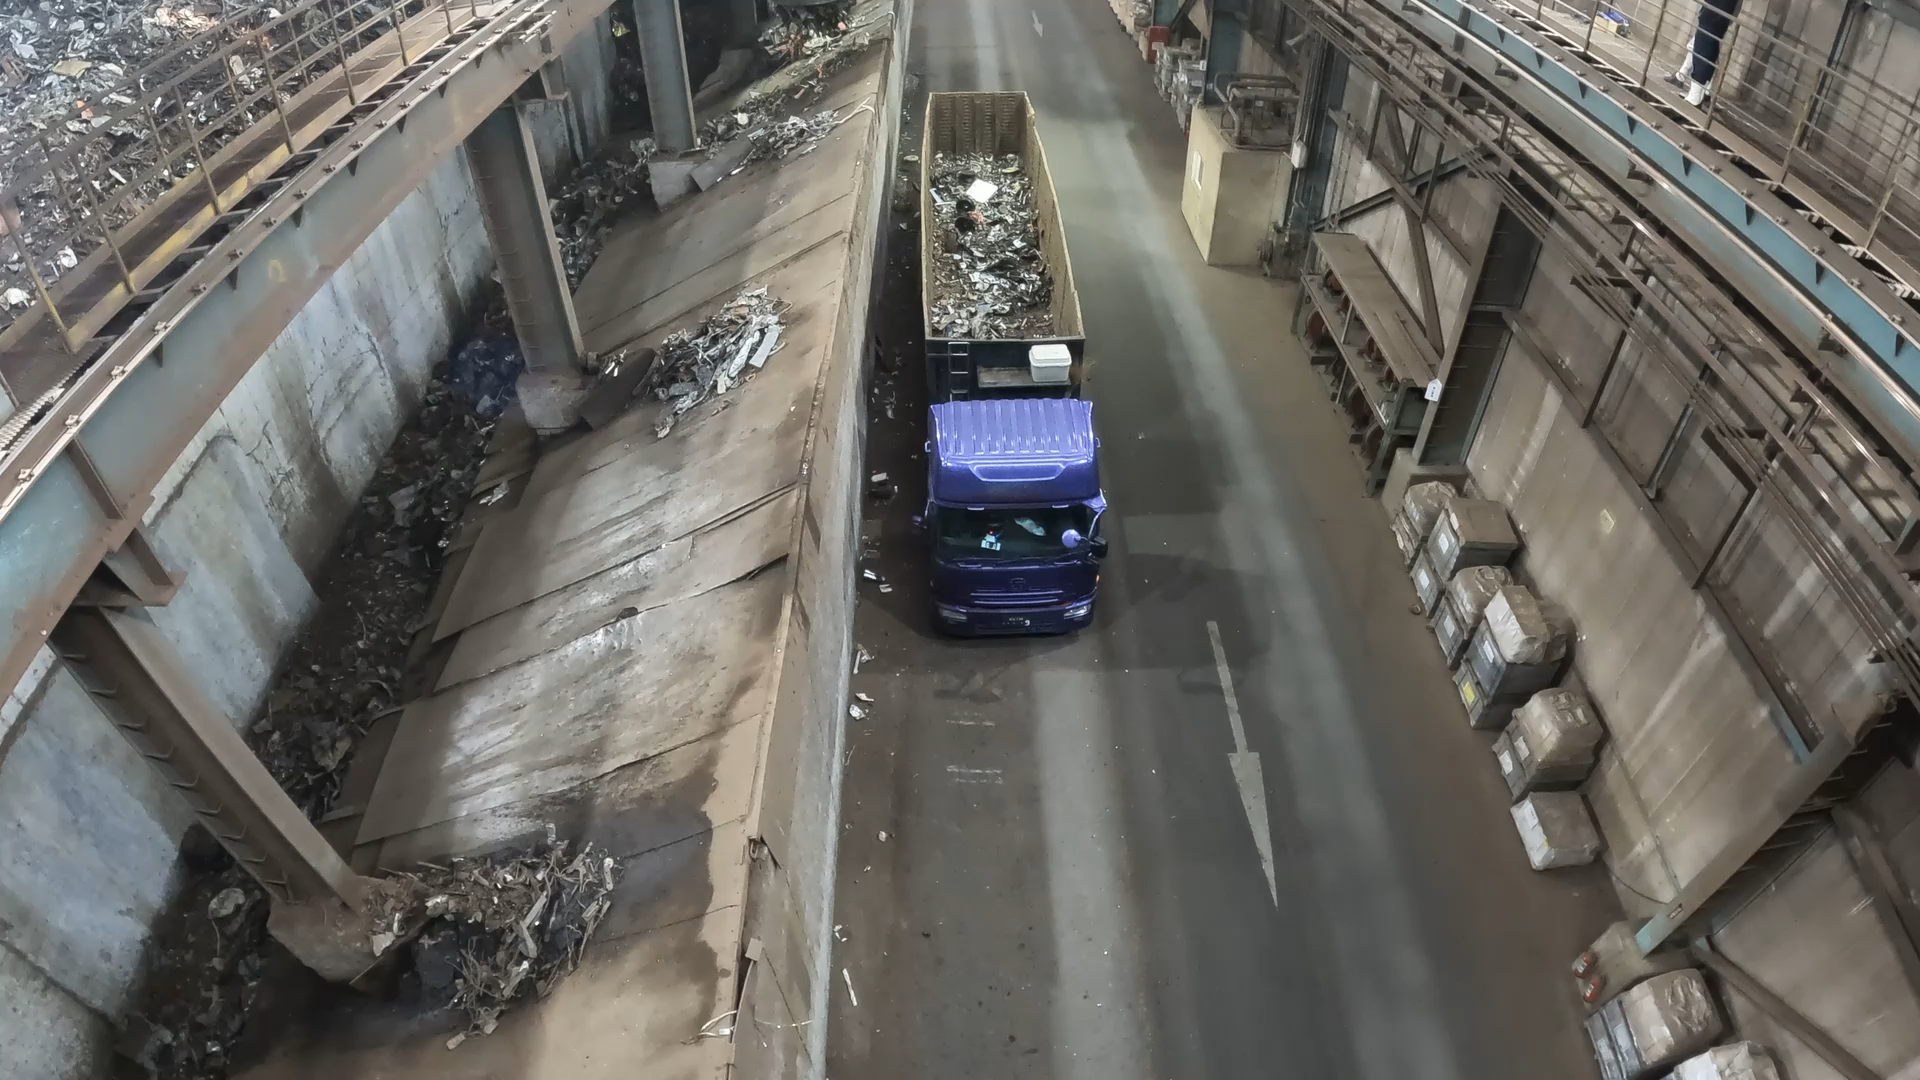truck: (923, 90, 1083, 342)
